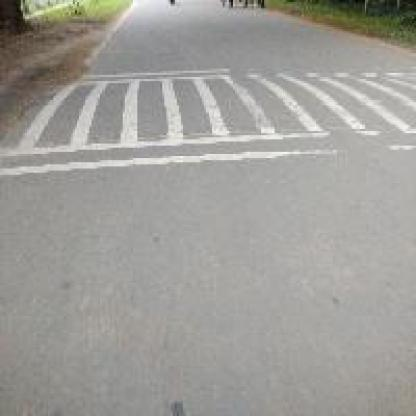Speed Bump: (0, 67, 410, 181)
